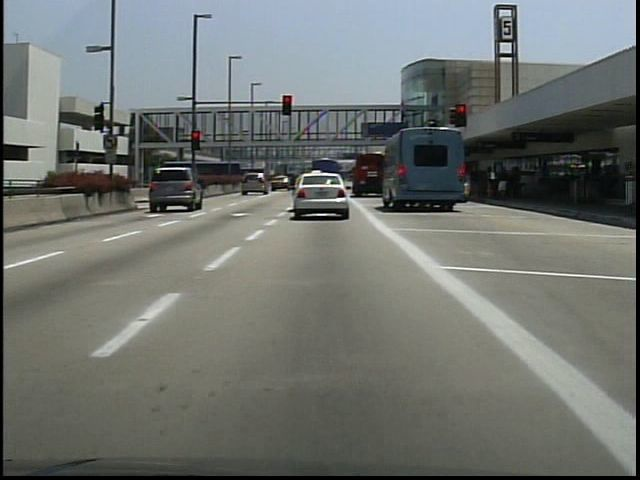person: (495, 164, 510, 204)
